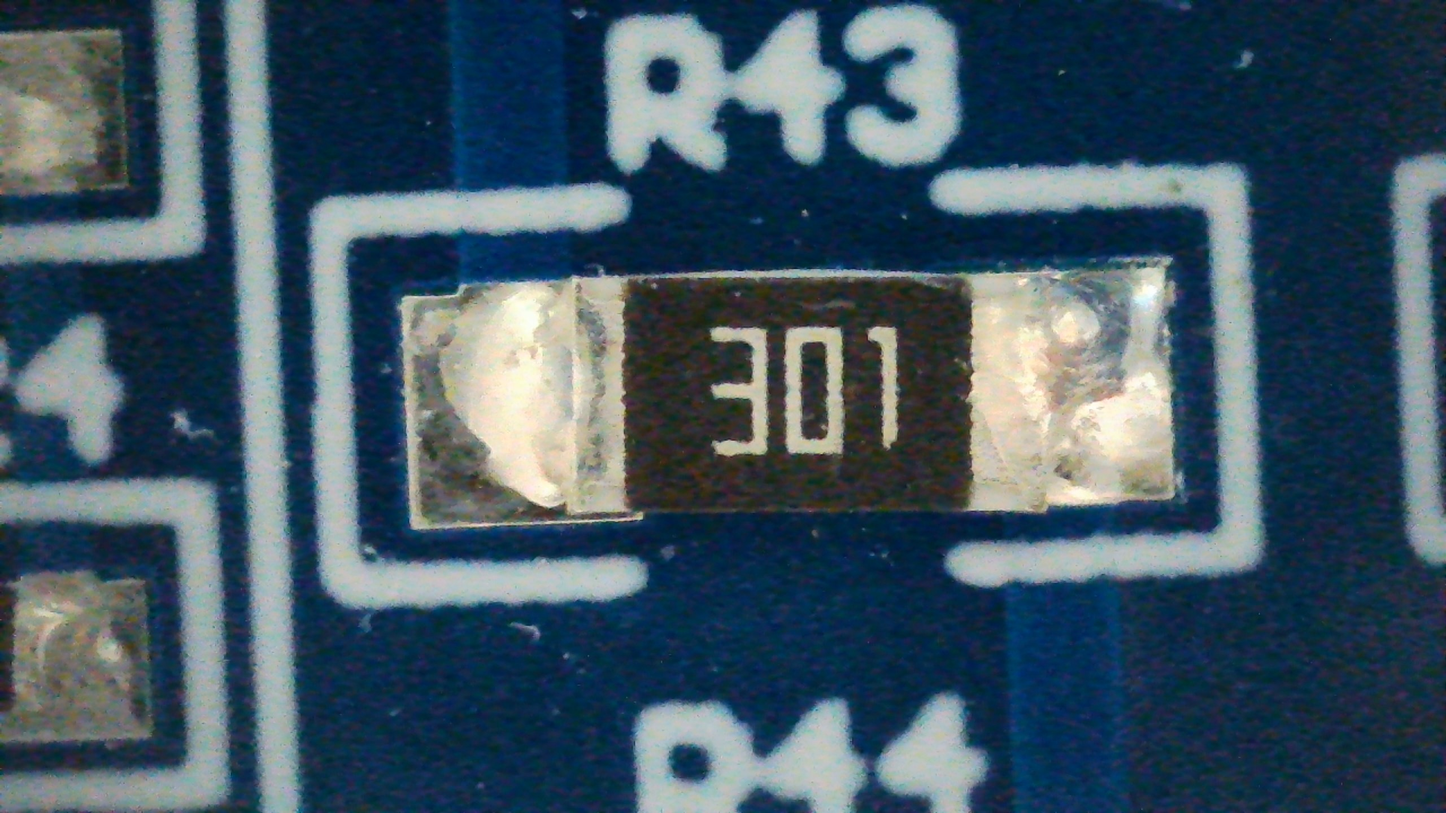OK: (402, 266, 1172, 529)
